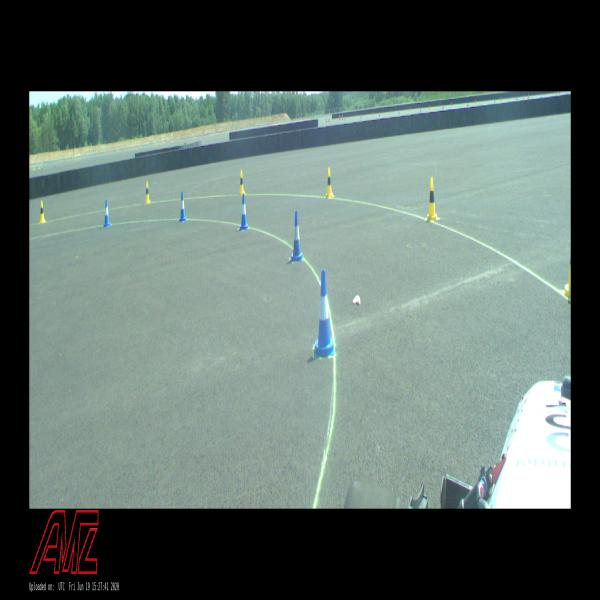blue_cone: (315, 269, 334, 355), (290, 210, 303, 263), (239, 194, 248, 230), (179, 192, 186, 221), (104, 200, 110, 226)
yellow_cone: (427, 177, 437, 220), (326, 168, 334, 197), (39, 200, 46, 223), (239, 170, 245, 195), (145, 182, 150, 203)
